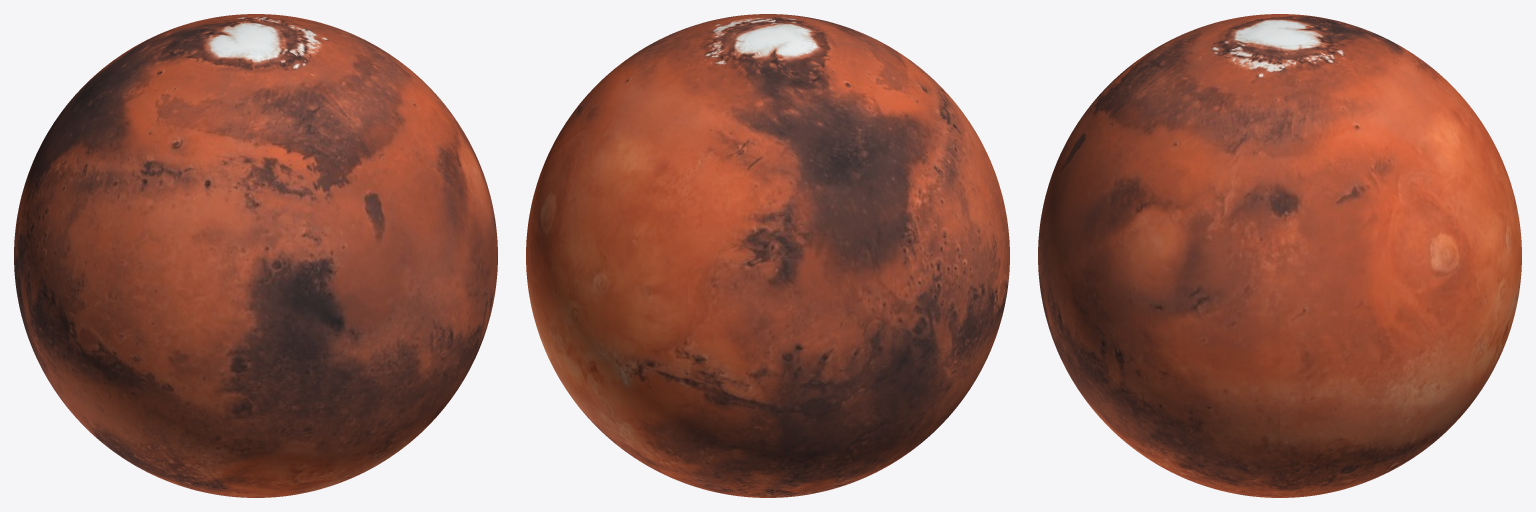
File: marte_v1.1.obj
The picture shows the model from 3 angles, left to right: view 1: azimuth 30°, elevation 25°; view 2: azimuth 150°, elevation 25°; view 3: azimuth 270°, elevation 25°; orthographic projection.
Parts seen in each view (by area): view 1: Object_2; view 2: Object_2; view 3: Object_2.
Part boxes in pixels (left/top/right/bottom): Object_2: left=14, top=14, right=497, bottom=497; Object_2: left=526, top=14, right=1009, bottom=497; Object_2: left=1038, top=14, right=1521, bottom=497.
Size of the model in its own units: 200 by 200 by 200.
Materials: 1 (1 with a texture image).
